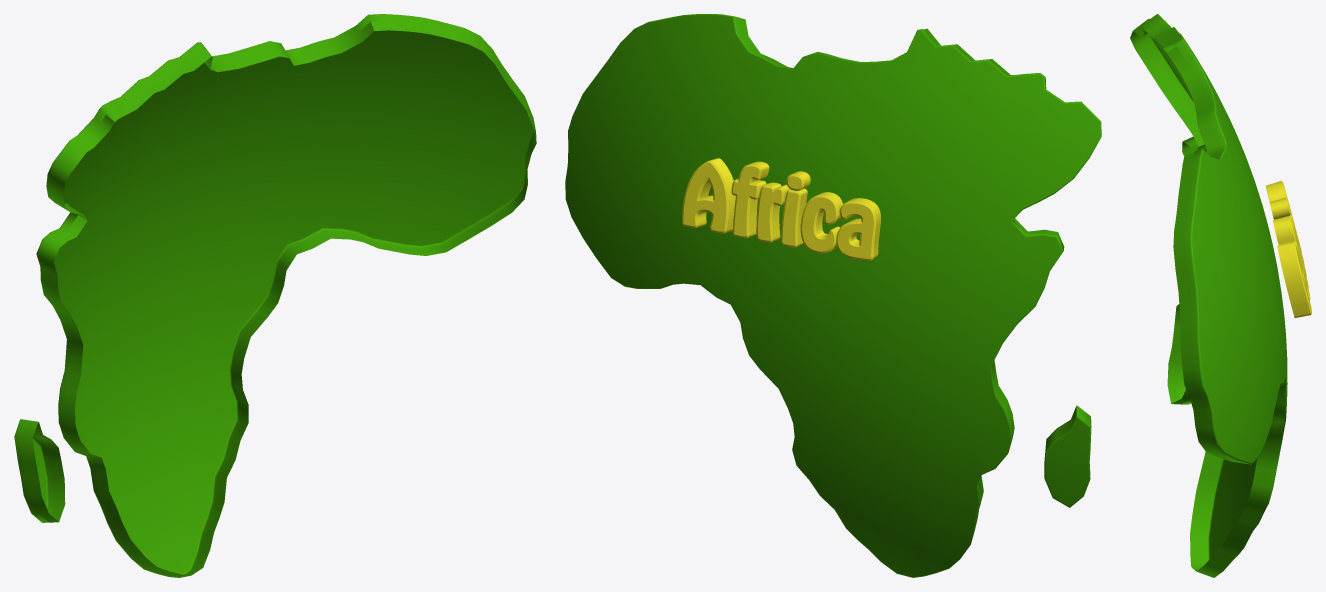
The model's file is africa.glb.
3 views of the same model, side by side, from view 1: azimuth 30°, elevation 25°; view 2: azimuth 150°, elevation 25°; view 3: azimuth 270°, elevation 25° (orthographic).
Parts seen in each view (by area): view 1: c1; view 2: c1; view 3: c1.
Boxes of the visible parts, box(x1,y1,x2,y2) form: c1: box(14, 14, 536, 577); c1: box(565, 14, 1101, 577); c1: box(1130, 14, 1311, 577).
Bounding box in the file's own units: 1.01 × 0.9954 × 0.3053.
